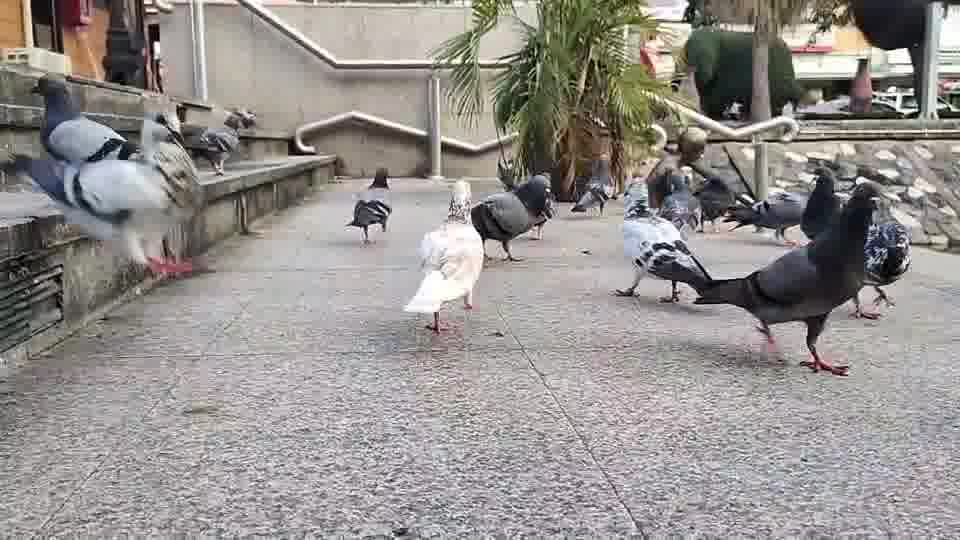Pigeon: (21, 73, 203, 280), (691, 183, 882, 376), (800, 172, 912, 319), (610, 178, 713, 303), (402, 179, 485, 332), (30, 72, 129, 164), (470, 171, 554, 264), (195, 105, 256, 176), (343, 198, 392, 246), (569, 182, 609, 216), (367, 167, 391, 190)
